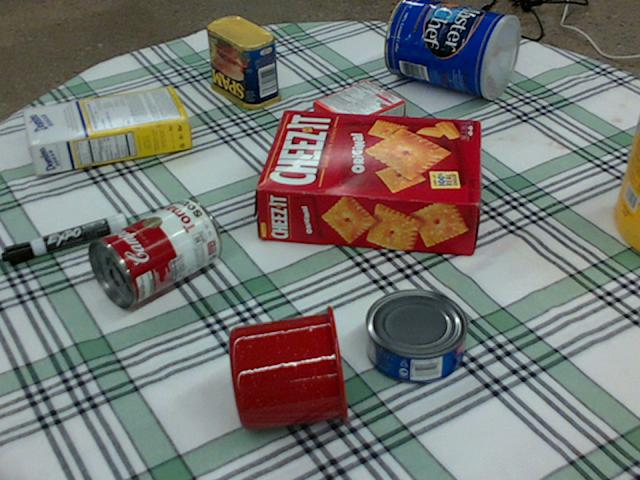cracker_box: (255, 107, 480, 253)
gelatin_box: (311, 76, 404, 143)
large_marker: (0, 213, 125, 265)
master_chef_can: (383, 0, 518, 98)
mug: (227, 301, 351, 432)
mustard_bottle: (613, 108, 639, 251)
potted_meat_can: (206, 15, 280, 108)
sugar_box: (21, 86, 190, 173)
tomato_soup_can: (87, 196, 220, 307)
tuna_fish_can: (366, 288, 469, 383)
